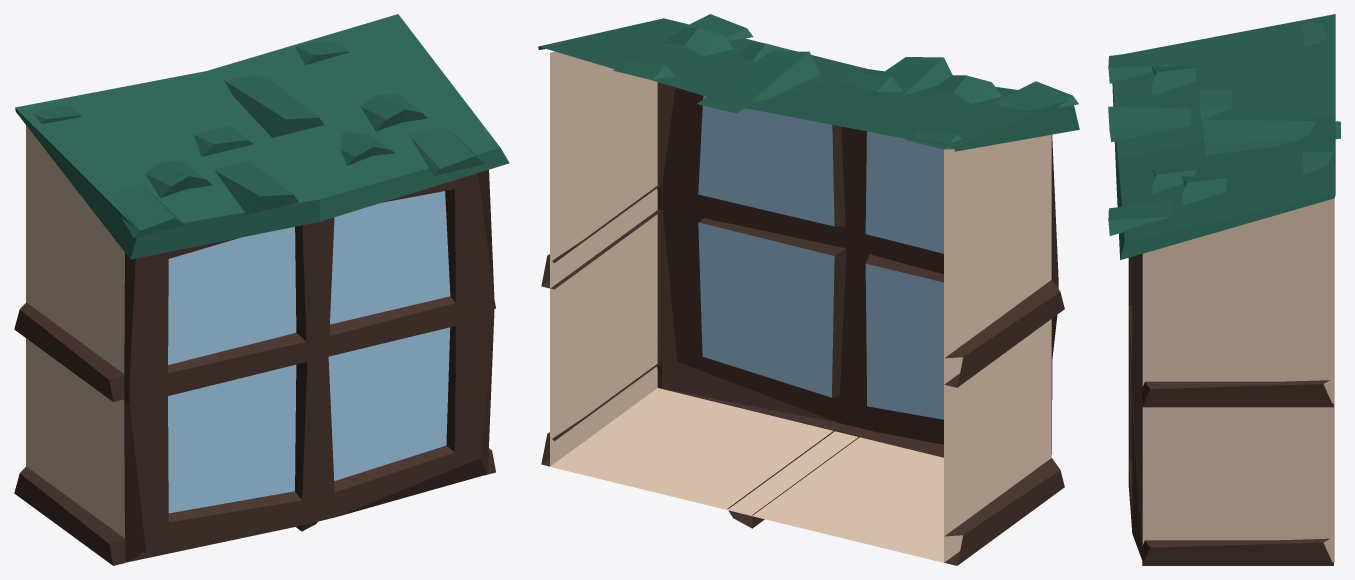
Rendered from SM_L_G_Home_Pop_Up_Square_Window.fbx.
3 renders of one model, left to right at view 1: azimuth 30°, elevation 25°; view 2: azimuth 150°, elevation 25°; view 3: azimuth 270°, elevation 25°, orthographic. The views are drawn at different scales.
Visible parts, largest first — view 1: SM_L_G_Home_Pop_Up_Square_Window; view 2: SM_L_G_Home_Pop_Up_Square_Window; view 3: SM_L_G_Home_Pop_Up_Square_Window.
Part boxes in pixels (left/top/right/bottom): SM_L_G_Home_Pop_Up_Square_Window: left=14, top=14, right=509, bottom=565; SM_L_G_Home_Pop_Up_Square_Window: left=538, top=14, right=1079, bottom=565; SM_L_G_Home_Pop_Up_Square_Window: left=1108, top=14, right=1340, bottom=565.
Bounding box in the file's own units: 1.03 × 1.02 × 0.5589.
Materials: 1 (1 with a texture image).
